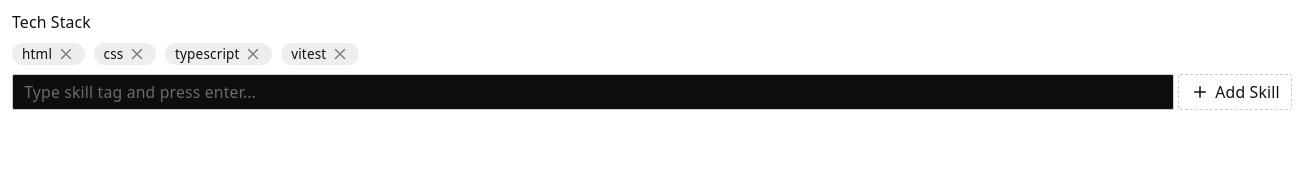
Test: Skills › delete single skill
The width and height of the screenshot is (1304, 172).
Click the button named "remove" next to "html" at (66,54), box [56,45,74,63]
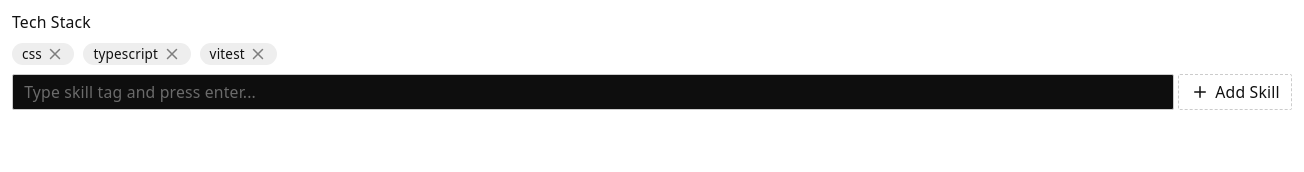
Now the text "html" is gone
